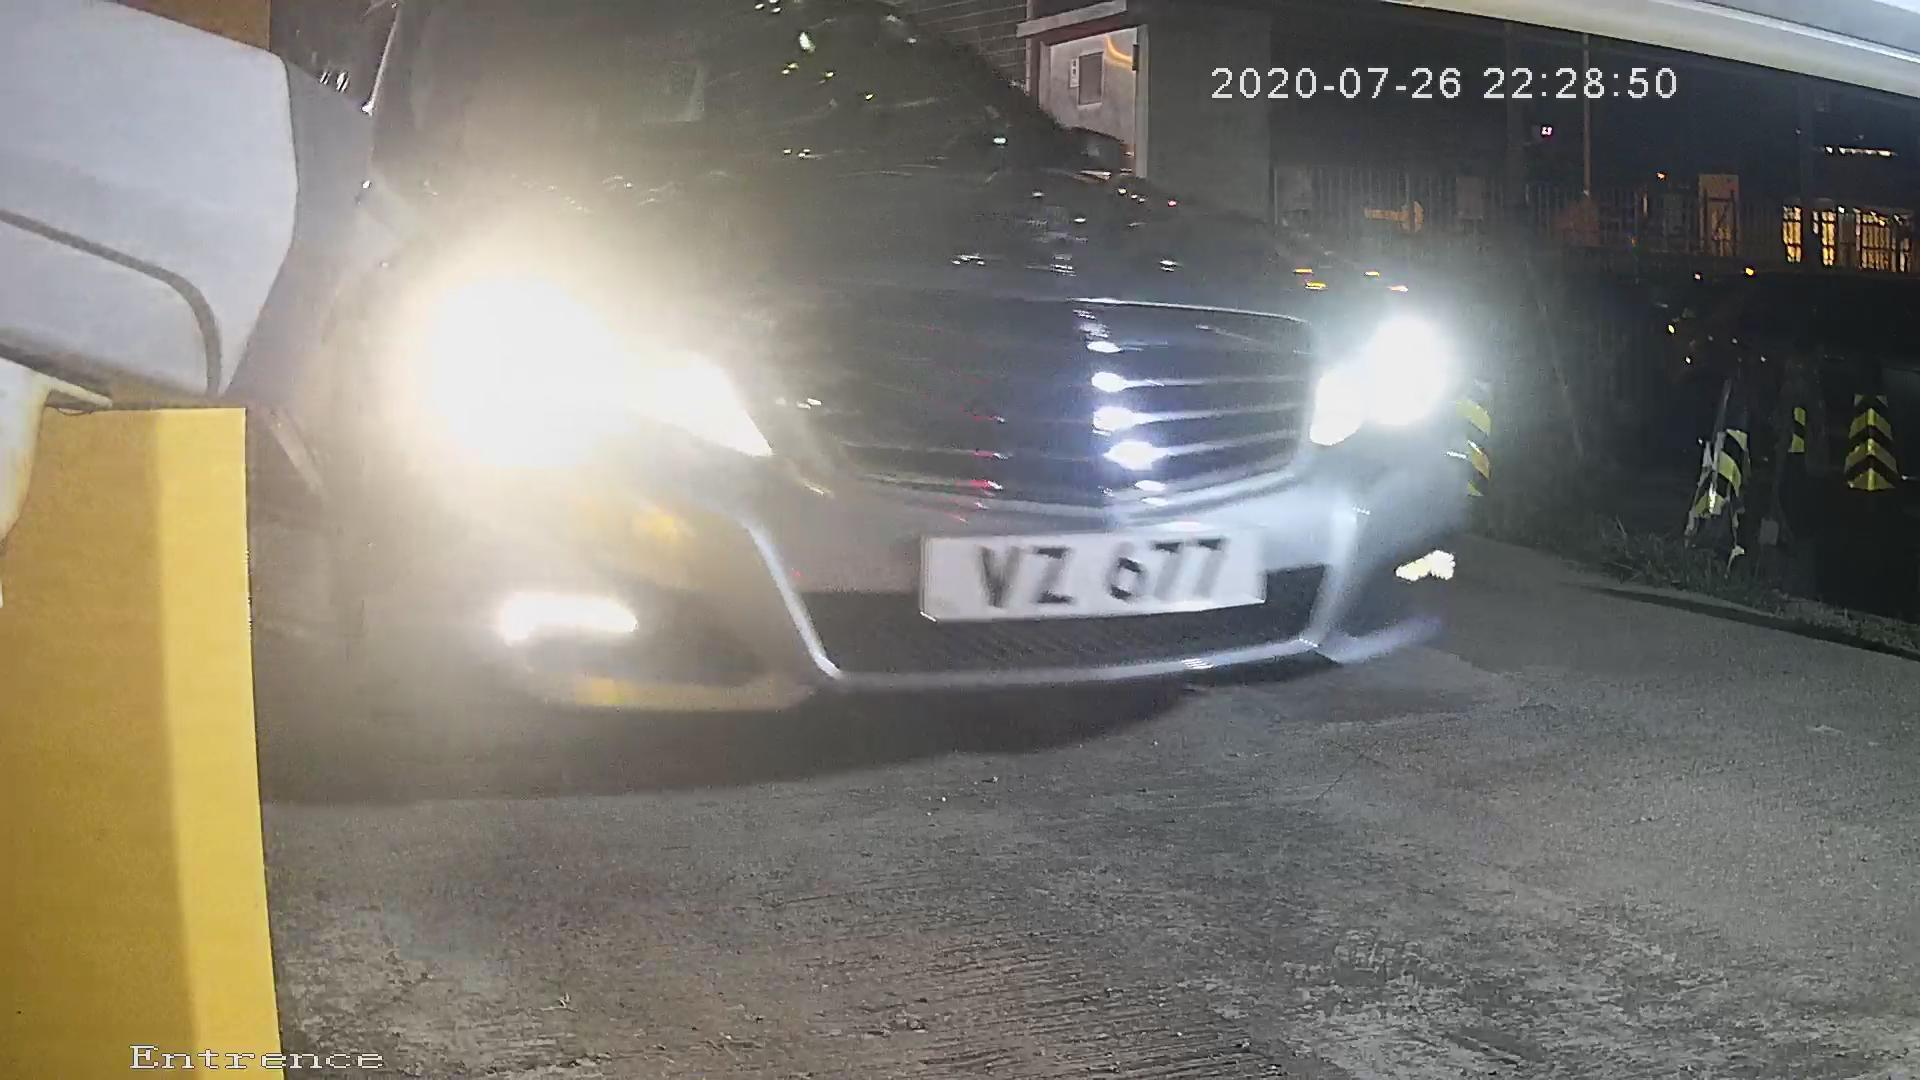License Plate: (866, 497, 1295, 622)
